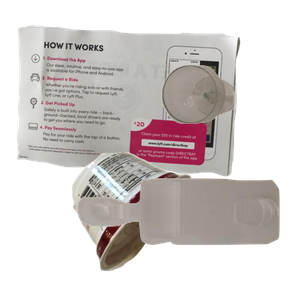glass: (159, 63, 300, 179)
paper: (14, 22, 247, 191)
plastic: (75, 176, 300, 300)
trash: (70, 149, 254, 300)
